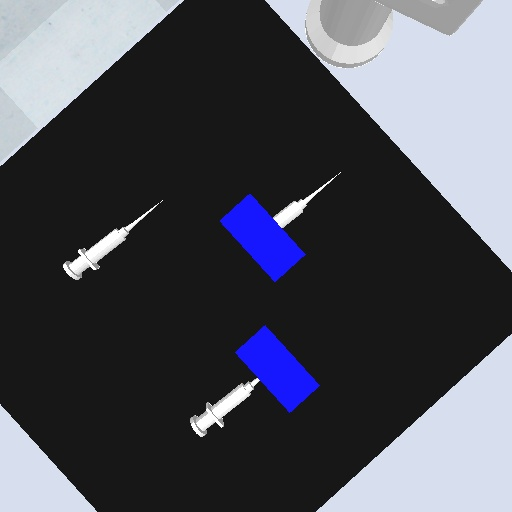jeringuilla: (60, 197, 165, 284), (187, 375, 264, 441), (269, 170, 344, 230)
